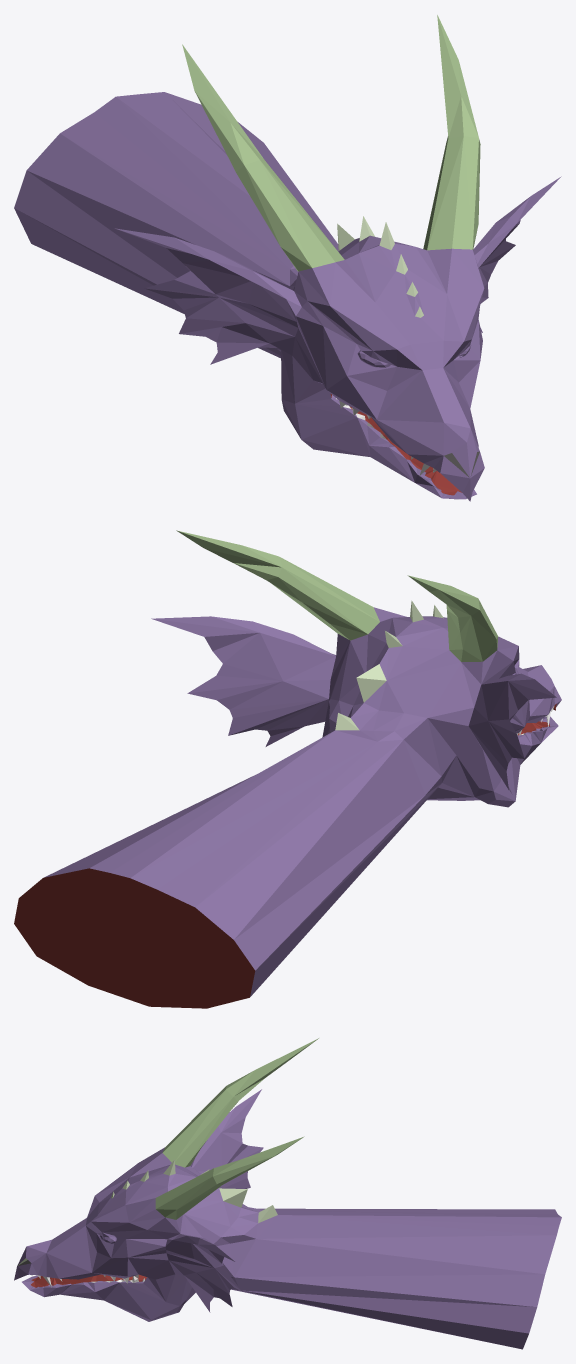
File: Isl_4_Dragon_Head.fbx
3 renders of one model, top to bottom at view 1: azimuth 30°, elevation 25°; view 2: azimuth 150°, elevation 25°; view 3: azimuth 270°, elevation 25°, orthographic. The views are drawn at different scales.
Parts seen in each view (by area): view 1: Isl_4_Dragon_Head; view 2: Isl_4_Dragon_Head; view 3: Isl_4_Dragon_Head.
Boxes of the visible parts, box(x1,y1,x2,y2) form: Isl_4_Dragon_Head: box(14, 15, 561, 501); Isl_4_Dragon_Head: box(14, 530, 561, 1008); Isl_4_Dragon_Head: box(14, 1038, 561, 1349).
Size of the model in its own units: 187 by 295 by 148.
Materials: 1 (1 with a texture image).
